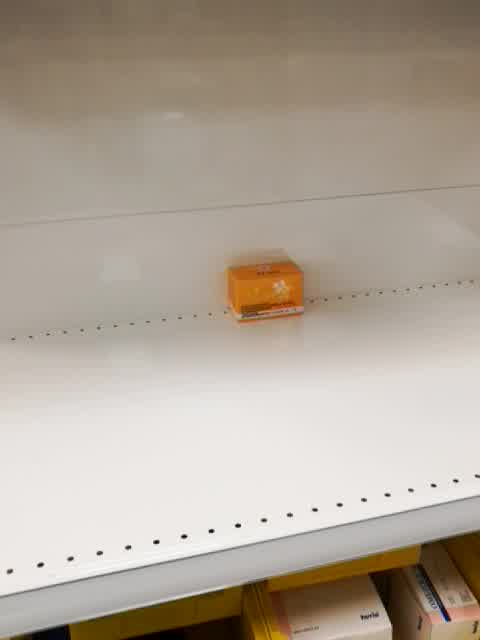jasminetea: (226, 257, 305, 323)
